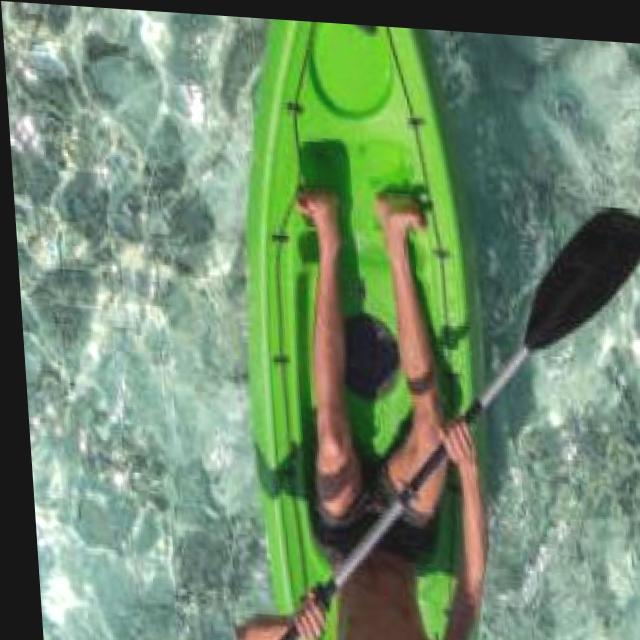kayak: (241, 14, 480, 611), (406, 463, 457, 637)
